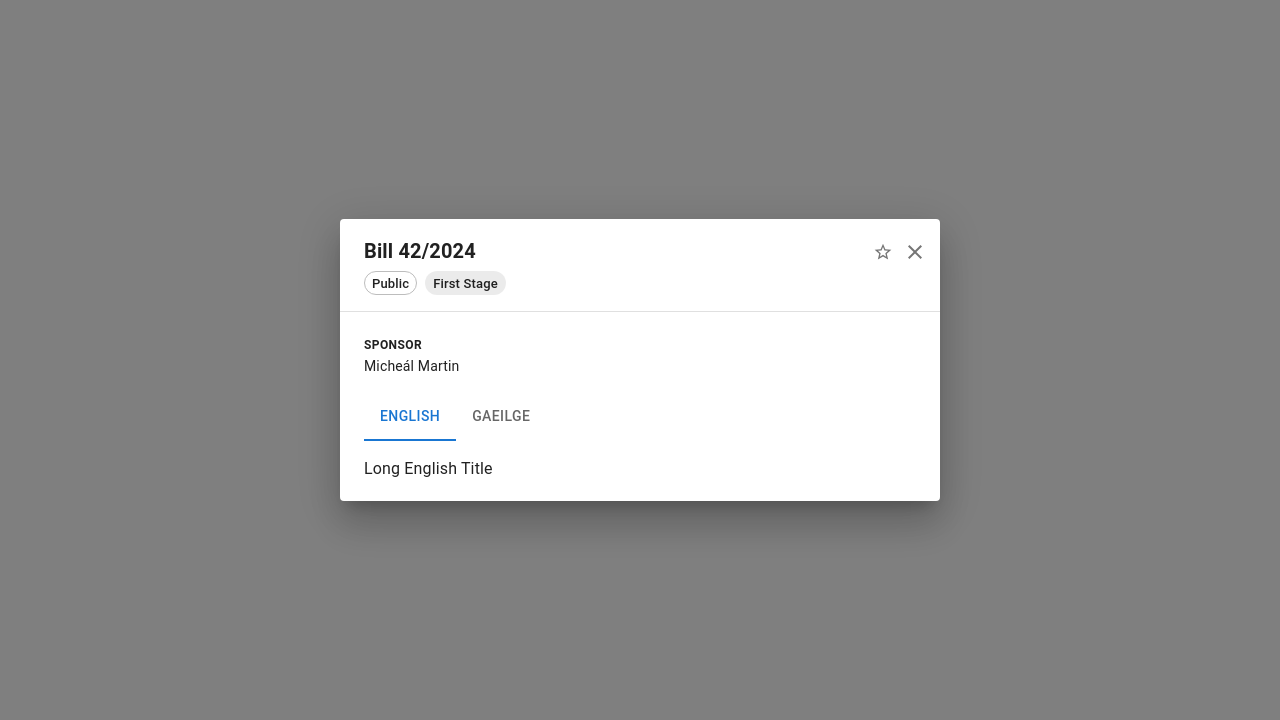
BillModal › falls back to the Gaeilge placeholder when no Gaeilge title exists
Click the tab "Gaeilge": (501, 416) [456,392,546,440]
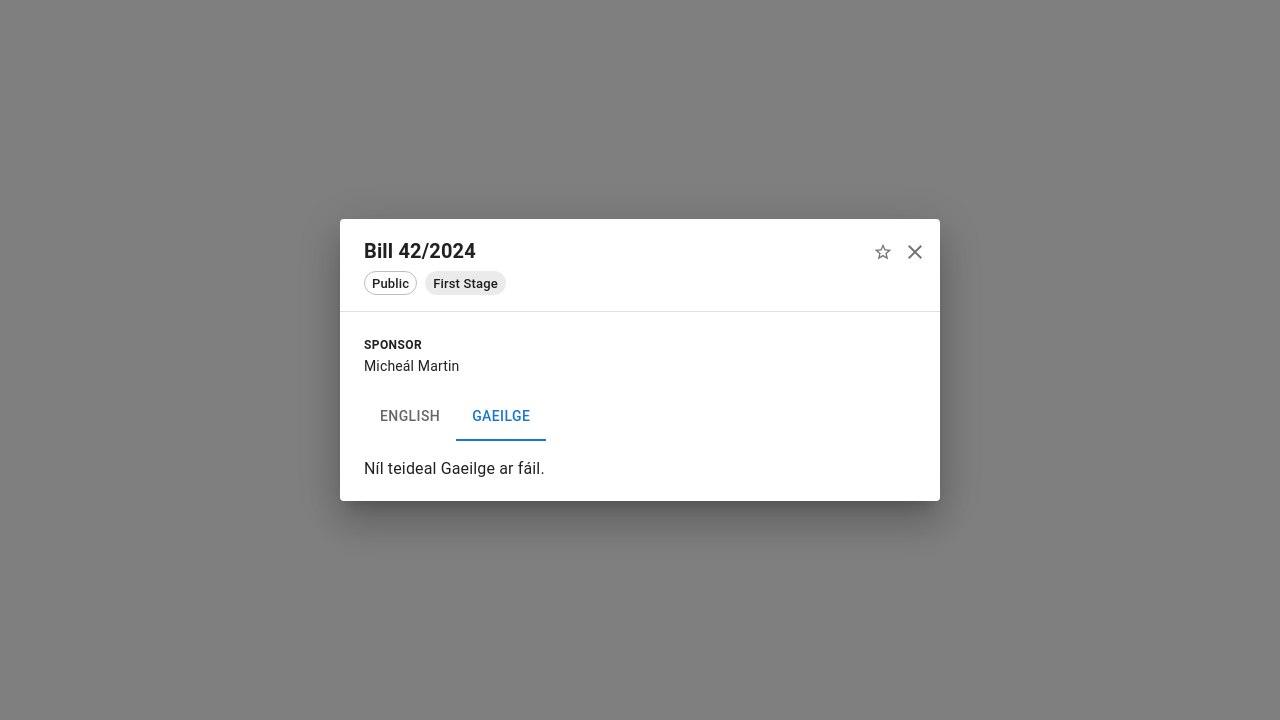
Check: the text "Níl teideal Gaeilge ar fáil." is shown, box [364,458,545,478]
